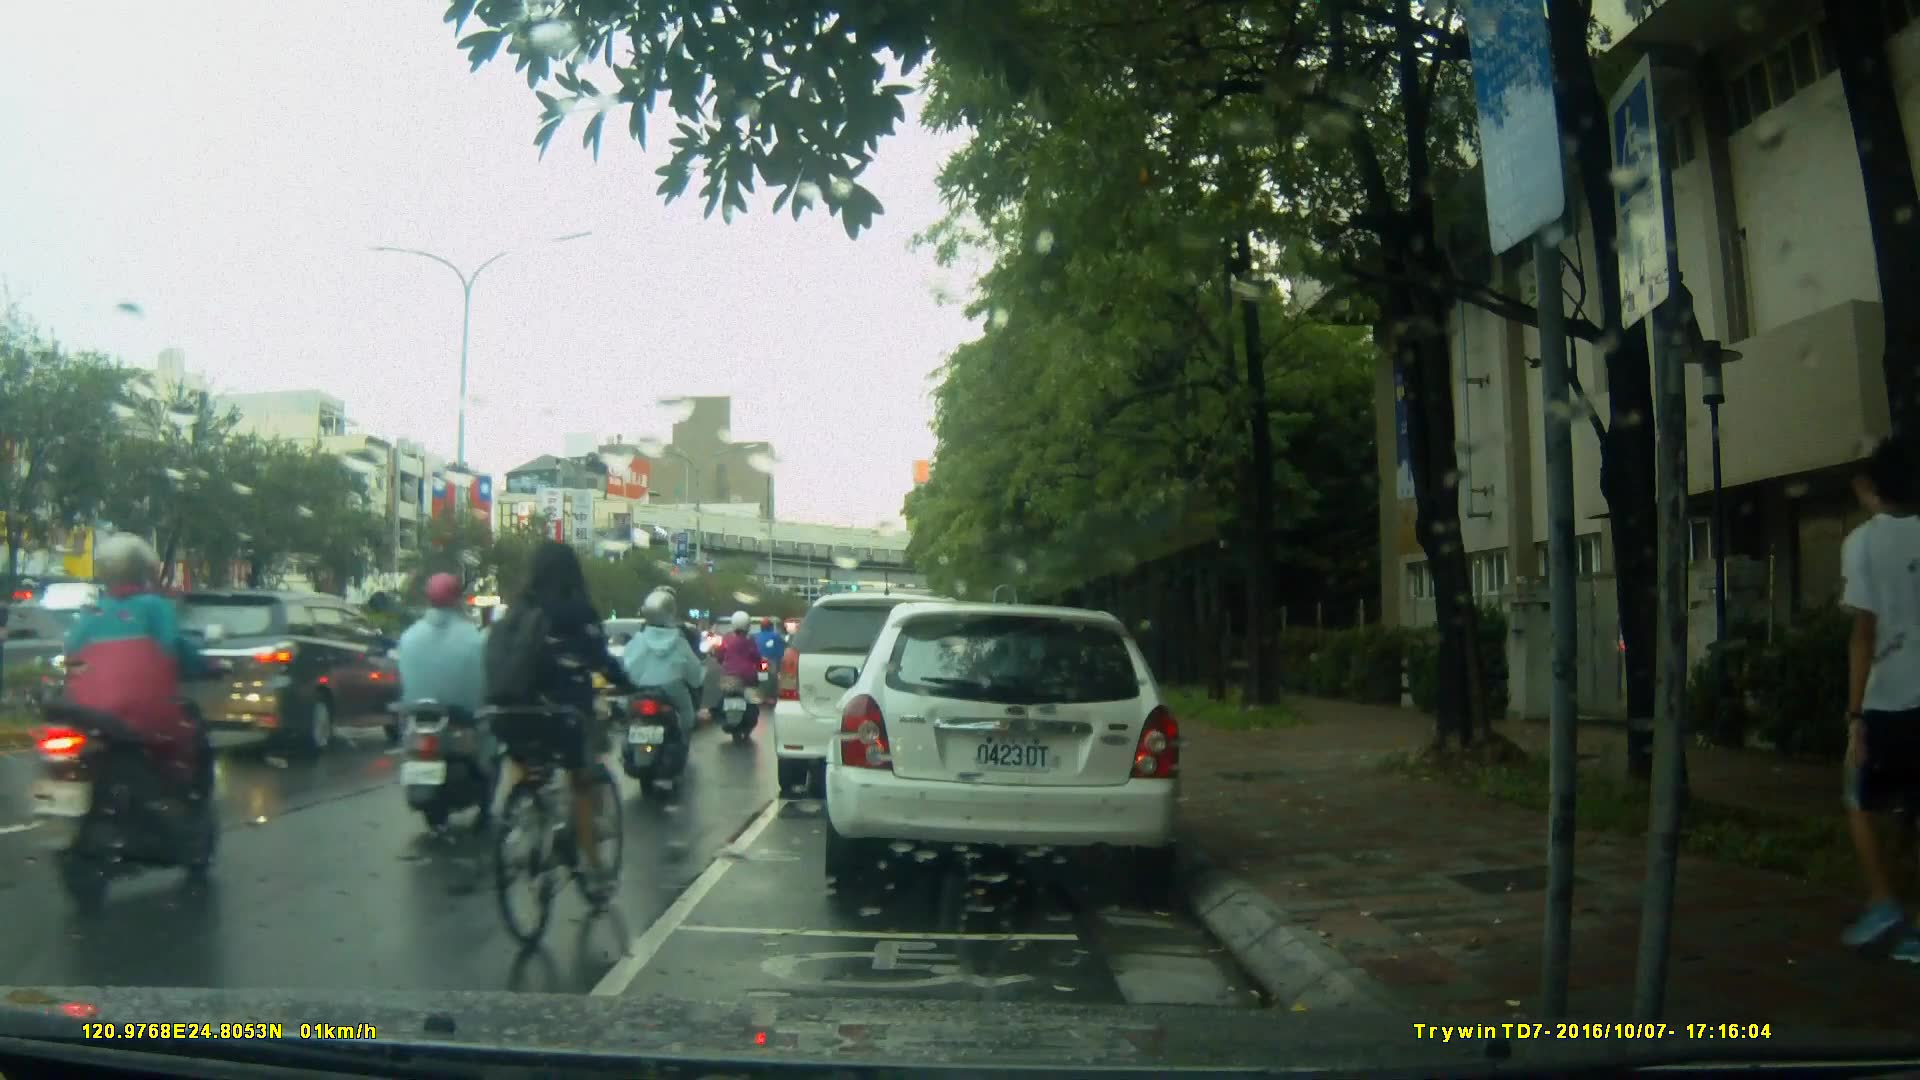pedestrian: (1812, 464, 1920, 977)
rider: (27, 524, 222, 916), (503, 538, 640, 936), (397, 570, 507, 846), (632, 589, 710, 788), (532, 593, 614, 777), (632, 587, 715, 769), (475, 606, 547, 752), (710, 617, 768, 750), (741, 610, 786, 689)
vehicle: (822, 604, 1188, 883), (125, 588, 424, 758), (774, 595, 995, 802)
